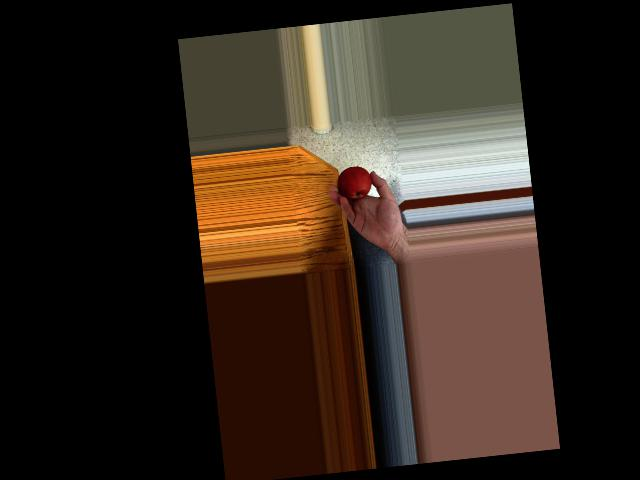apple: (334, 162, 371, 201)
